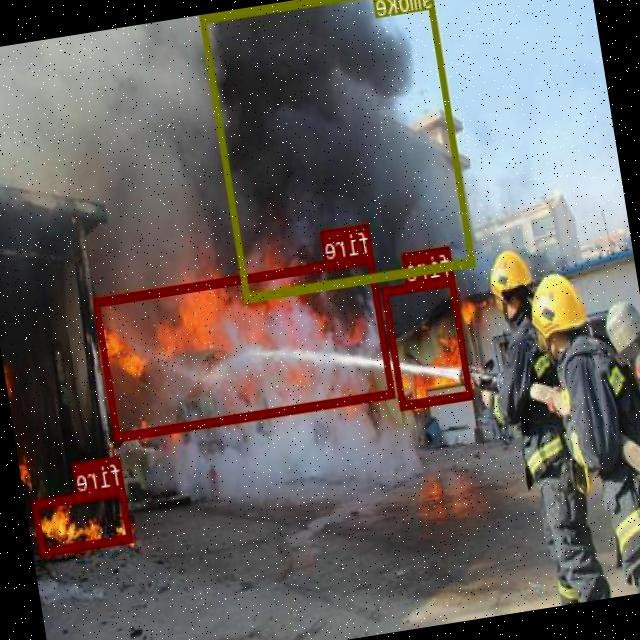fire: (94, 253, 396, 439), (383, 276, 475, 408), (34, 486, 134, 554)
smoke: (202, 0, 477, 299)
